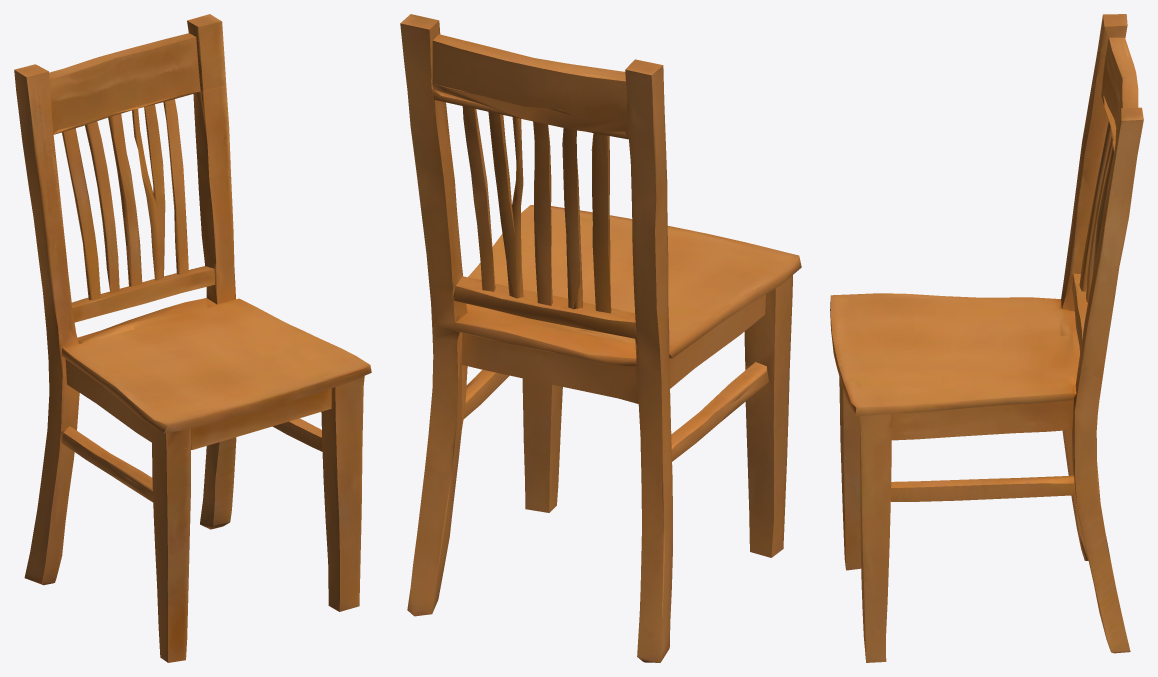
The model's file is woodenChair.glb.
The picture shows the model from 3 angles, left to right: view 1: azimuth 30°, elevation 25°; view 2: azimuth 150°, elevation 25°; view 3: azimuth 270°, elevation 25°; orthographic projection. The views are drawn at different scales.
Parts seen in each view (by area): view 1: model; view 2: model; view 3: model.
Part boxes in pixels (x1,y1,x2,y2): model: [14, 14, 371, 662]; model: [400, 14, 801, 662]; model: [830, 14, 1143, 662].
Bounding box in the file's own units: 0.9054 × 1.9 × 1.
1 material, 1 textured.
